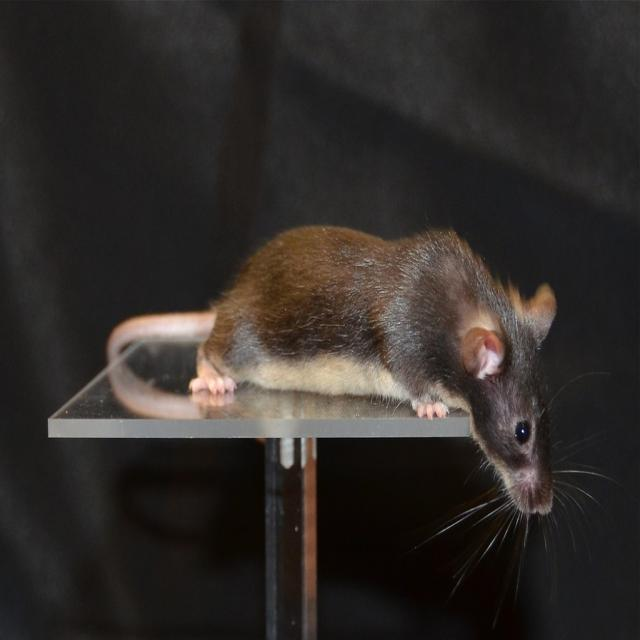rat: (107, 220, 561, 518)
